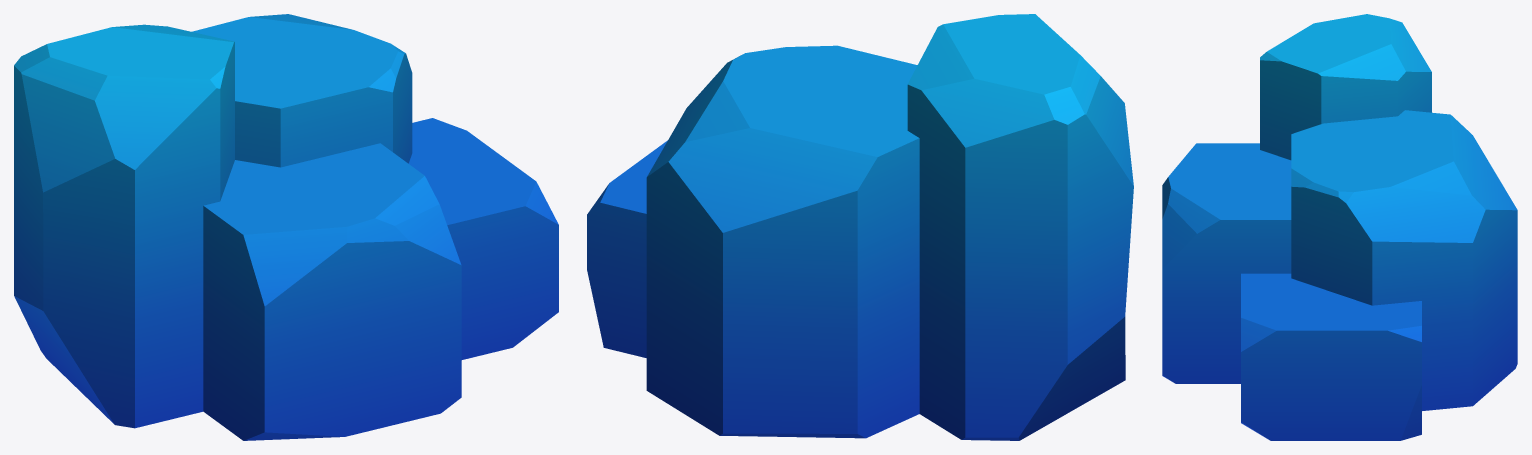
The model's file is Rock_Crystal_Emerald.glb.
3 views of the same model, side by side, from view 1: azimuth 30°, elevation 25°; view 2: azimuth 150°, elevation 25°; view 3: azimuth 270°, elevation 25° (orthographic). The views are drawn at different scales.
Visible parts, largest first — view 1: crystal_9; view 2: crystal_9; view 3: crystal_9.
Boxes of the visible parts, box(x1,y1,x2,y2) form: crystal_9: box(14, 14, 558, 440); crystal_9: box(587, 14, 1133, 440); crystal_9: box(1162, 14, 1517, 440).
Bounding box in the file's own units: 4.71 × 3.17 × 3.93.
1 material, 1 textured.
